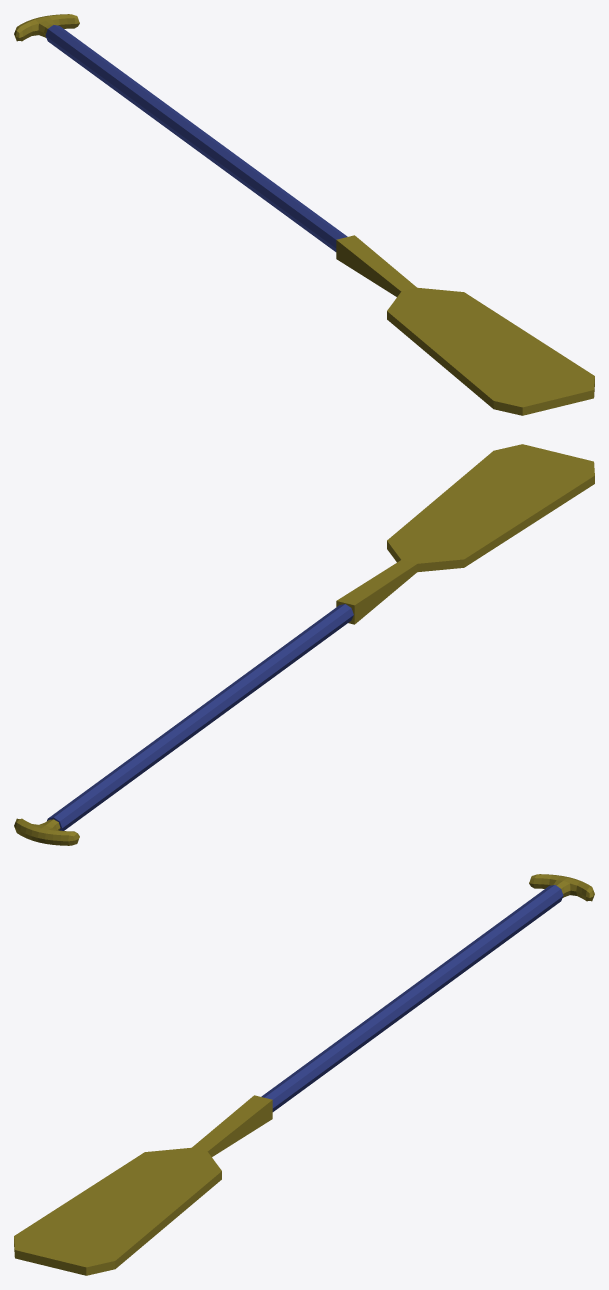
File: paddle.glb
3 views of the same model, one above another, from view 1: azimuth 30°, elevation 25°; view 2: azimuth 150°, elevation 25°; view 3: azimuth 330°, elevation 25° (orthographic).
Parts seen in each view (by area): view 1: paddle; view 2: paddle; view 3: paddle.
Part boxes in pixels (<box>): paddle: <box>14,14,594,415</box>; paddle: <box>14,444,594,845</box>; paddle: <box>14,874,594,1275</box>.
Bounding box in the file's own units: 0.1688 × 0.0307 × 1.5.
